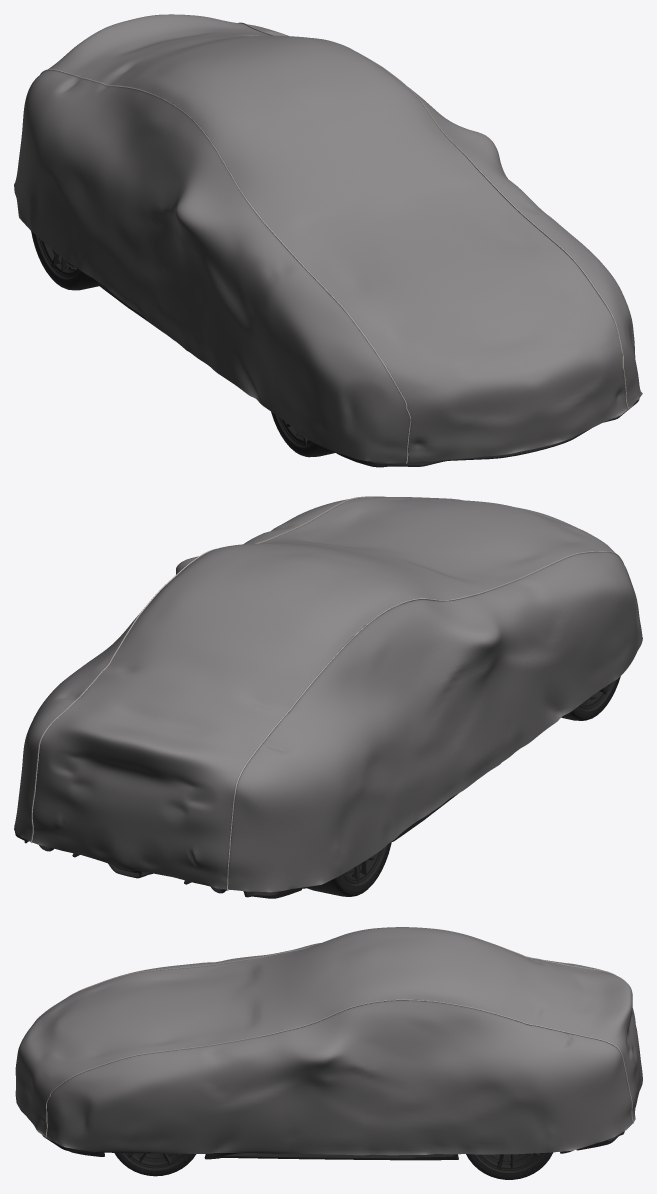
The picture shows the model from 3 angles, top to bottom: view 1: azimuth 30°, elevation 25°; view 2: azimuth 150°, elevation 25°; view 3: azimuth 270°, elevation 25°; orthographic projection. The views are drawn at different scales.
Visible parts, largest first — view 1: CAPA, Paint_Paint_0, LINHA; view 2: CAPA, Paint_Paint_0, LINHA; view 3: CAPA, Paint_Paint_0, LINHA.
Boxes of the visible parts, x1,y1,x2,y2 form: CAPA: (14,14,642,463); Paint_Paint_0: (31,231,639,467); LINHA: (40,22,628,463); CAPA: (14,497,642,892); Paint_Paint_0: (15,676,620,898); LINHA: (30,496,623,890); CAPA: (15,927,642,1155); Paint_Paint_0: (20,1109,624,1179); LINHA: (45,932,633,1137).
Bounding box in the file's own units: 1.91 × 1.35 × 4.39.
5 materials, 3 textured.
